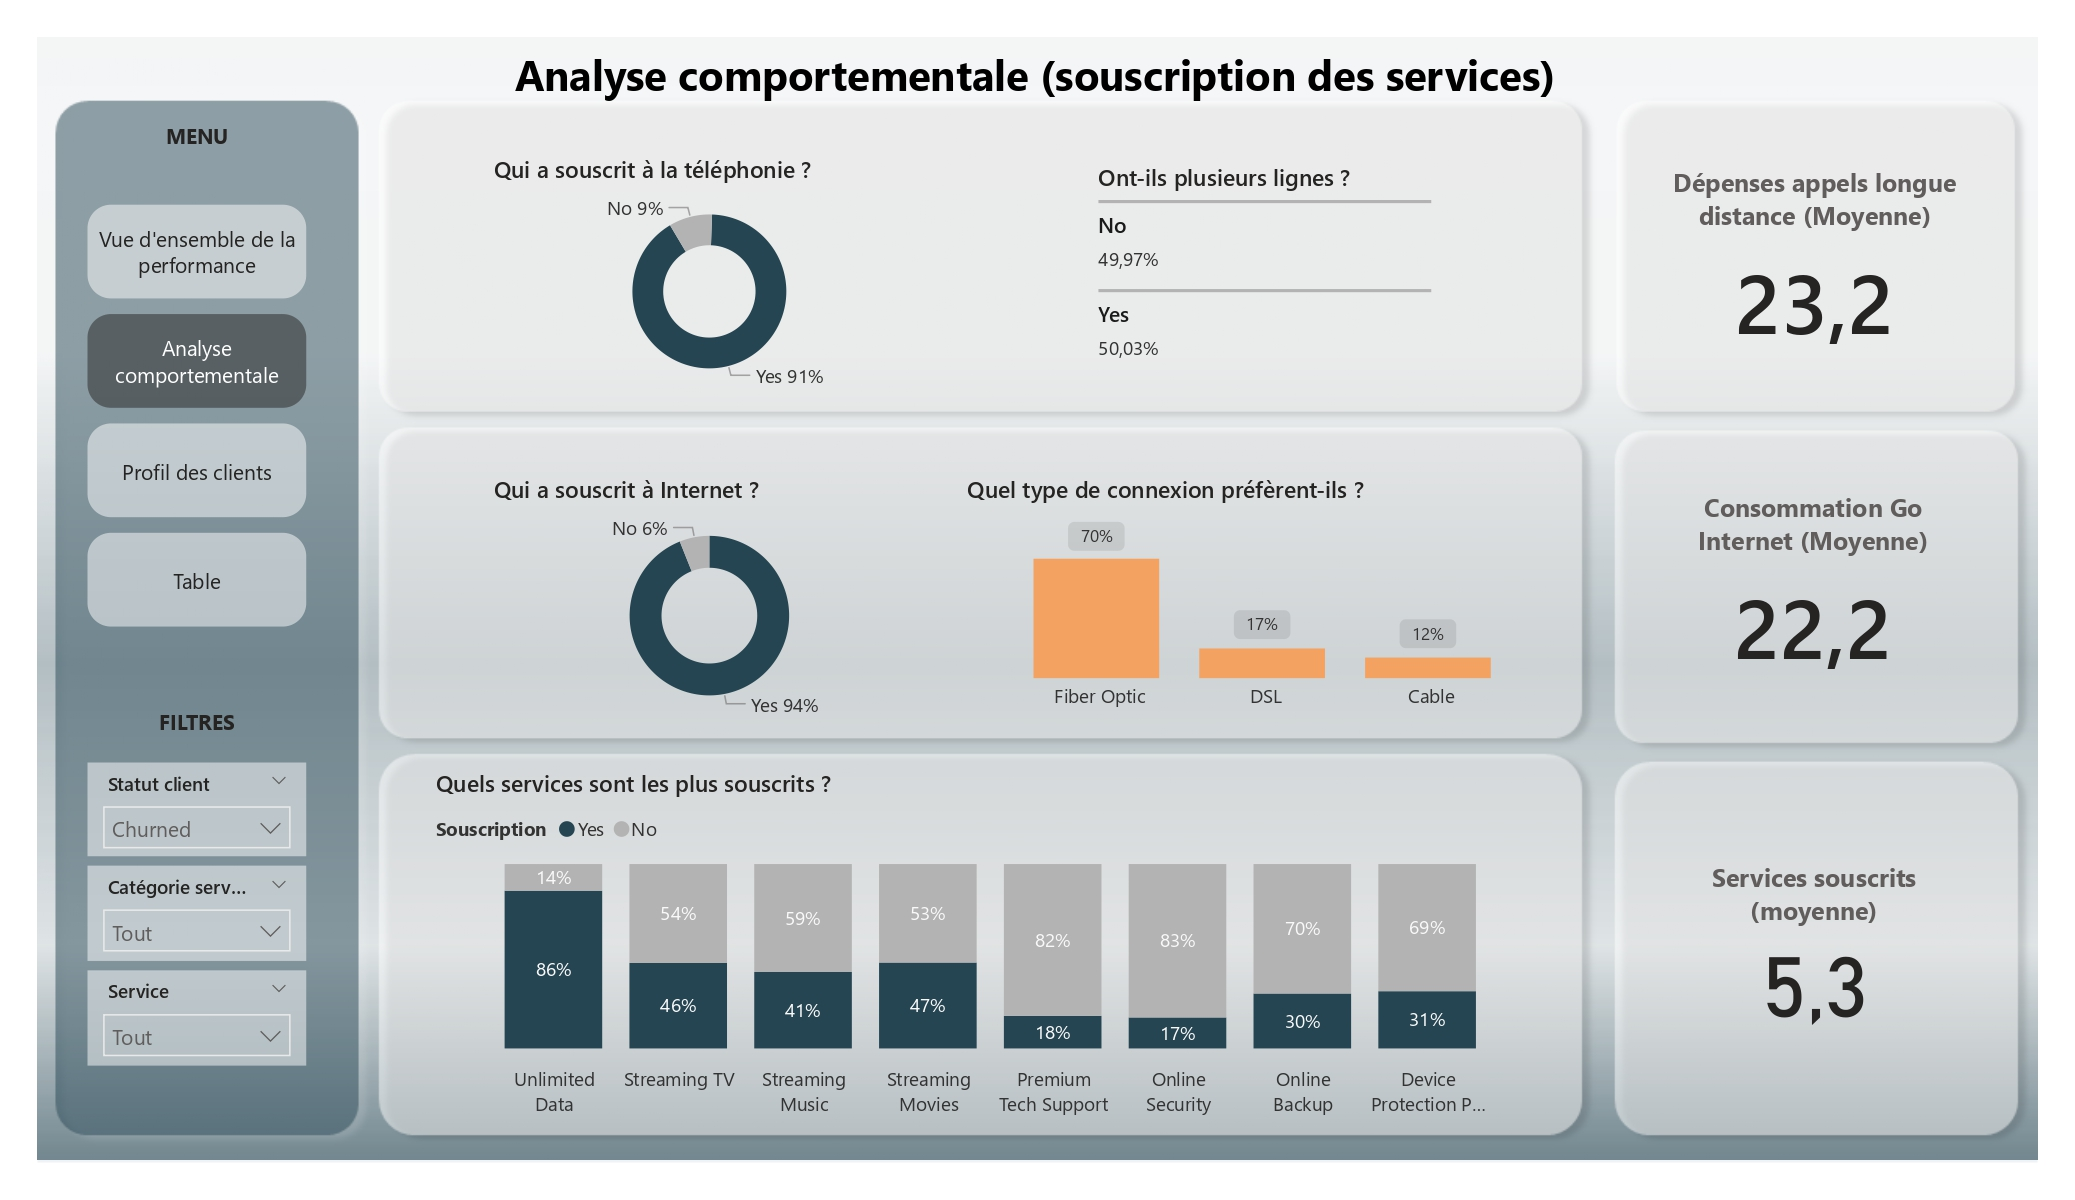

The dashboard page shown, as its layout file describes it:
{"tool":"powerbi","page":{"name":"Analyse comportementale","canvas":[1280,720],"ordinal":2},"visuals":[{"type":"donutChart","title":"Qui a souscrit à la téléphonie ?","fields":{"Y":["CountNonNull(CustomerService.Subscribed)"],"Category":["CustomerService.Subscribed"]},"box":[287.2,73.6,286.2,157.2],"z":1000},{"type":"cardVisual","fields":{"Data":["Avg(UsageCharges.Avg Monthly Long Distance Charges)"]},"box":[1022.1,65,231.1,149.8],"z":2000},{"type":"multiRowCard","title":"Ont-ils plusieurs lignes ?","fields":{"Values":["CustomerService.Subscribed","CountNonNull(CustomerService.Subscribed)"]},"box":[674.3,73.6,222.7,157.2],"z":3000},{"type":"donutChart","title":"Qui a souscrit à Internet ?","fields":{"Category":["CustomerService.Subscribed"],"Y":["CountNonNull(CustomerService.Subscribed)"]},"box":[287.2,279.2,286.2,162.3],"z":4000},{"type":"cardVisual","fields":{"Data":["Avg(UsageCharges.Avg Monthly GB Download)"]},"box":[1021,273,231.1,151],"z":5000},{"type":"hundredPercentStackedColumnChart","title":"Quels services sont les plus souscrits ?","fields":{"Category":["DimService.Service Name"],"Series":["CustomerService.Subscribed"],"Y":["CountNonNull(CustomerService.Customer ID)"]},"box":[250,466.6,709.5,231.8],"z":6000},{"type":"clusteredColumnChart","title":"Quel type de connexion préfèrent-ils ?","fields":{"Category":["CustomerService.Internet Type"],"Y":["Count(CustomerService.Customer ID)"]},"box":[589.6,279.2,392.1,161.3],"z":7000},{"type":"slicer","fields":{"Values":["DimService.Category"]},"box":[32.3,530.1,140.1,60.5],"z":8000},{"type":"cardVisual","fields":{"Data":["_Mesure Table.MoyenneServiceClient"]},"box":[1022.1,507.6,230,149.8],"z":9000},{"type":"slicer","fields":{"Values":["DimService.Service Name"]},"box":[32.3,596.7,140.1,61.5],"z":10000},{"type":"textbox","box":[7.1,0,1262.9,49.4],"z":11000},{"type":"pageNavigator","box":[32.3,106.8,140.1,273.1],"z":12000},{"type":"slicer","fields":{"Values":["DimCustomer.Customer Status"]},"box":[32.3,463.6,140.1,60.5],"z":13000},{"type":"textbox","box":[53.4,49.4,97.8,43.3],"z":14000},{"type":"textbox","box":[53.4,424.3,97.8,31.2],"z":15000}]}

Visuals, with their boxes on the page's 1280x720 design canvas (x1, y1, x2, y2). These are canvas units, not pixel positions in the 2075x1200 screenshot, which may show the page scaled, cropped or inside an application window:
"Qui a souscrit à la téléphonie ?" donutChart: detection(287, 74, 573, 231)
cardVisual - Avg(UsageCharges.Avg Monthly Long Distance Charges): detection(1022, 65, 1253, 215)
"Ont-ils plusieurs lignes ?" multiRowCard: detection(674, 74, 897, 231)
"Qui a souscrit à Internet ?" donutChart: detection(287, 279, 573, 442)
cardVisual - Avg(UsageCharges.Avg Monthly GB Download): detection(1021, 273, 1252, 424)
"Quels services sont les plus souscrits ?" hundredPercentStackedColumnChart: detection(250, 467, 960, 698)
"Quel type de connexion préfèrent-ils ?" clusteredColumnChart: detection(590, 279, 982, 440)
slicer - DimService.Category: detection(32, 530, 172, 591)
cardVisual - _Mesure Table.MoyenneServiceClient: detection(1022, 508, 1252, 657)
slicer - DimService.Service Name: detection(32, 597, 172, 658)
textbox: detection(7, 0, 1270, 49)
pageNavigator: detection(32, 107, 172, 380)
slicer - DimCustomer.Customer Status: detection(32, 464, 172, 524)
textbox: detection(53, 49, 151, 93)
textbox: detection(53, 424, 151, 456)
